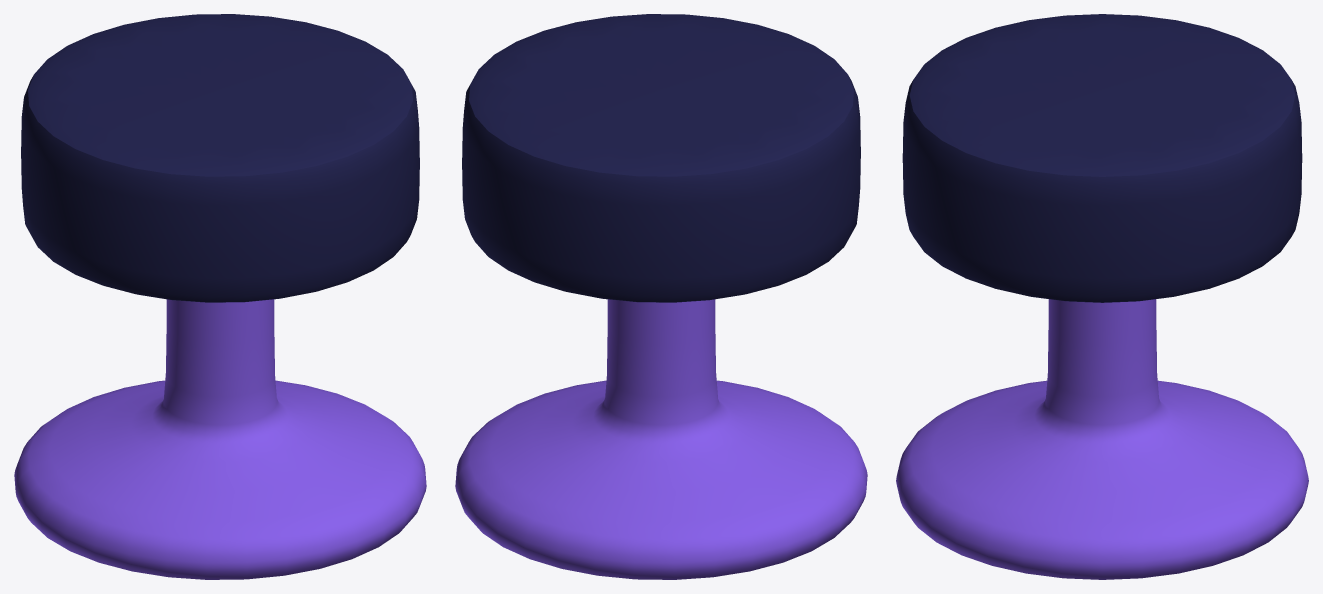
Rendered from Stool.fbx.
The picture shows the model from 3 angles, left to right: view 1: azimuth 30°, elevation 25°; view 2: azimuth 150°, elevation 25°; view 3: azimuth 270°, elevation 25°; orthographic projection.
Parts seen in each view (by area): view 1: Stool; view 2: Stool; view 3: Stool.
Part boxes in pixels (<box>): Stool: <box>14,14,426,579</box>; Stool: <box>455,14,867,579</box>; Stool: <box>896,14,1308,579</box>.
Bounding box in the file's own units: 116 × 128 × 116.
